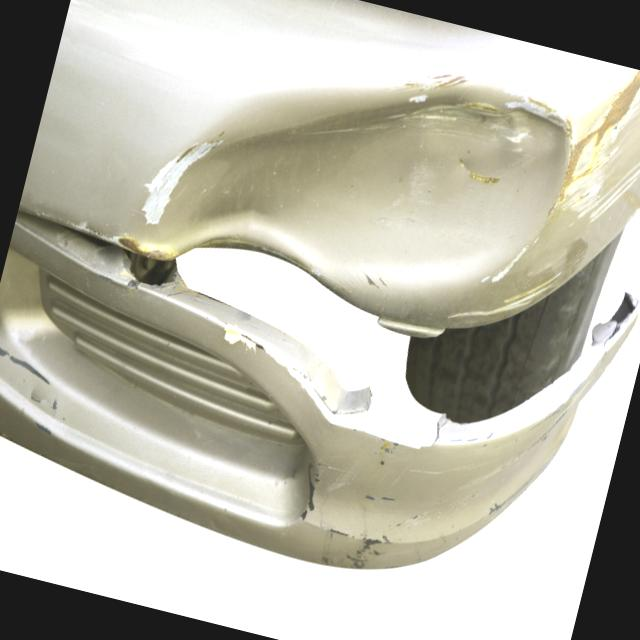Rayure: (165, 301, 629, 622)
